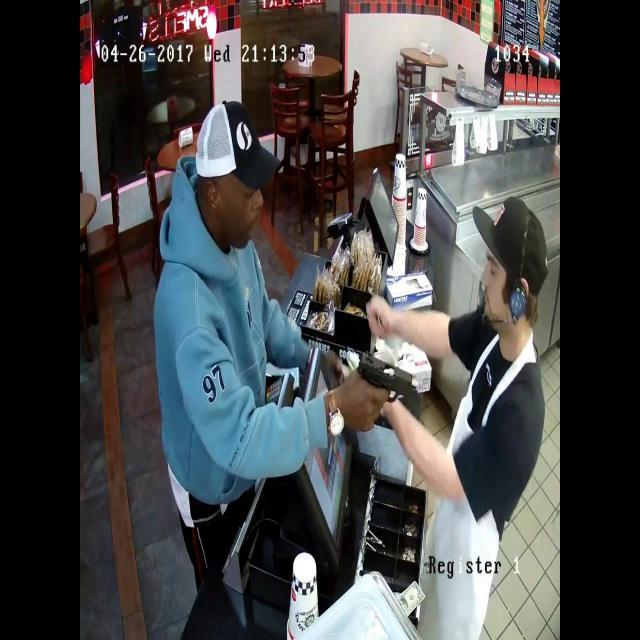weapon: (340, 328, 424, 416)
